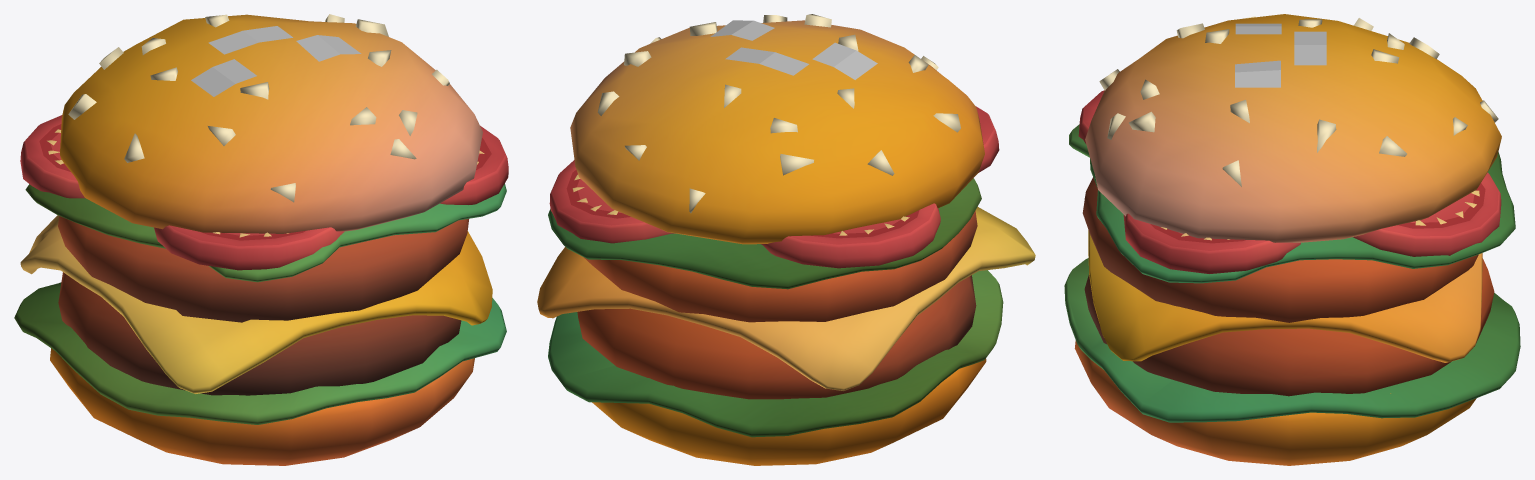
The model's file is burger_smile.fbx.
3 renders of one model, left to right at view 1: azimuth 30°, elevation 25°; view 2: azimuth 150°, elevation 25°; view 3: azimuth 270°, elevation 25°, orthographic.
Visible parts, largest first — view 1: burger_smile; view 2: burger_smile; view 3: burger_smile.
Part boxes in pixels (x1=…): burger_smile: x1=14, y1=14, x2=508, y2=465; burger_smile: x1=537, y1=14, x2=1035, y2=465; burger_smile: x1=1064, y1=14, x2=1520, y2=465.
Size of the model in its own units: 80.49 by 68.62 by 80.44.
Materials: 2 (1 with a texture image).
